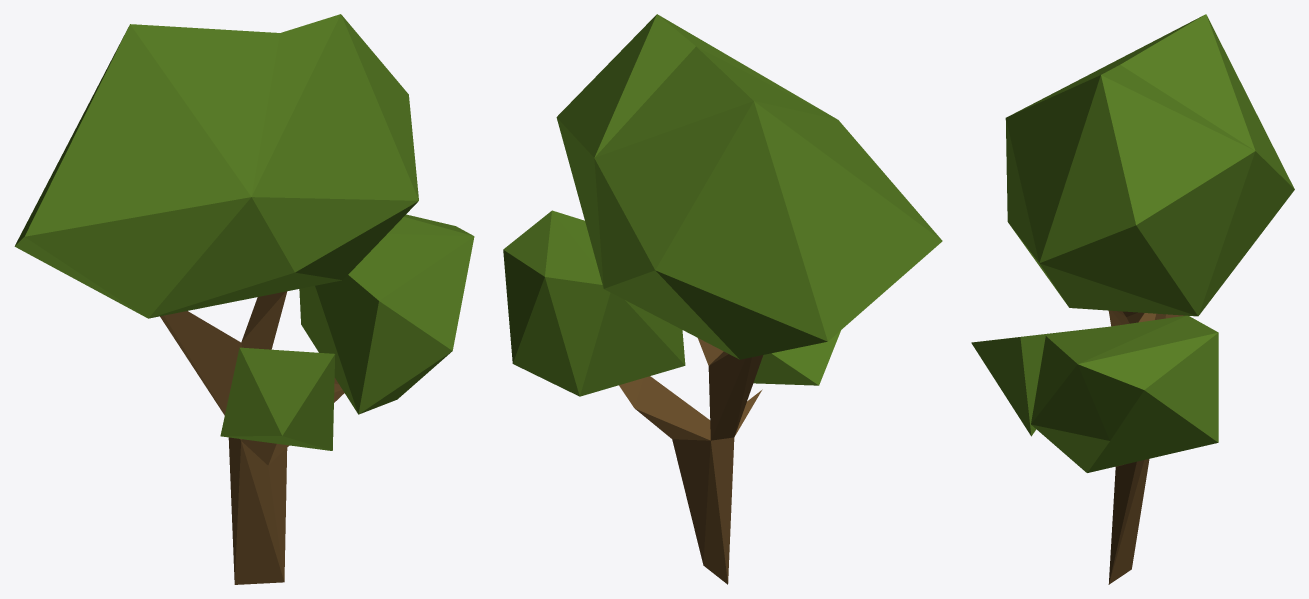
3 views of the same model, side by side, from view 1: azimuth 30°, elevation 25°; view 2: azimuth 150°, elevation 25°; view 3: azimuth 270°, elevation 25° (orthographic). The views are drawn at different scales.
Visible parts, largest first — view 1: Tree1_1; view 2: Tree1_1; view 3: Tree1_1.
Part boxes in pixels (<box>): Tree1_1: <box>14,14,474,584</box>; Tree1_1: <box>503,14,942,584</box>; Tree1_1: <box>971,14,1294,584</box>.
Bounding box in the file's own units: 6.08 × 7.33 × 4.01.
